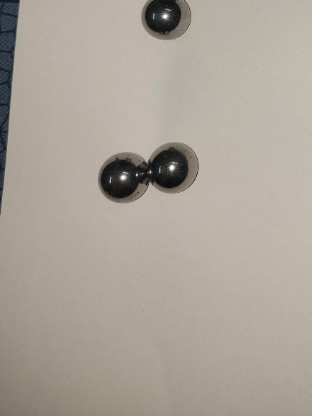ironball: (145, 140, 203, 198), (99, 151, 147, 206), (140, 0, 195, 41)
